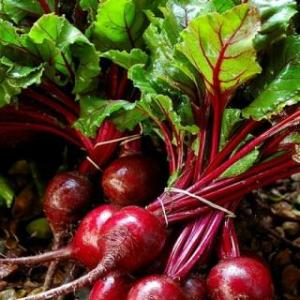beet: (46, 157, 272, 299)
